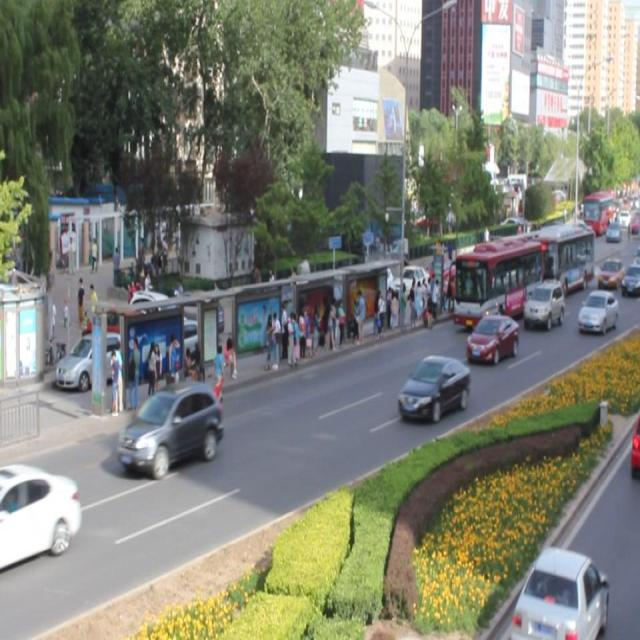car: (117, 381, 222, 475), (0, 463, 80, 563), (396, 352, 468, 422), (465, 312, 516, 363), (522, 278, 563, 326), (576, 288, 616, 333)
van: (447, 232, 538, 326), (524, 218, 592, 296)
